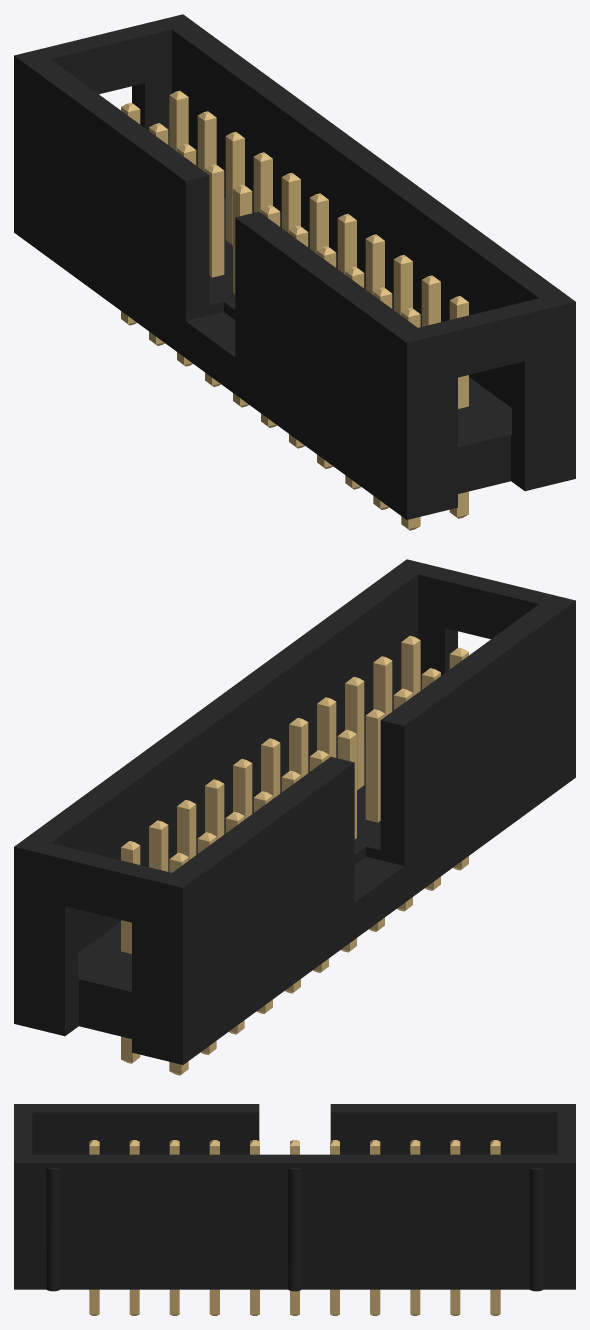
File: kc-idc-header_2x11_p2.54mm_vertical.glb
3 views of the same model, one above another, from view 1: azimuth 30°, elevation 25°; view 2: azimuth 150°, elevation 25°; view 3: azimuth 270°, elevation 25° (orthographic). The views are drawn at different scales.
Visible parts, largest first — view 1: 0_0_0_0, 0.75_0.5_0.25_0.9; view 2: 0_0_0_0, 0.75_0.5_0.25_0.9; view 3: 0_0_0_0, 0.75_0.5_0.25_0.9.
Boxes of the visible parts, x1,y1,x2,y2 form: 0_0_0_0: (14,14,575,519); 0.75_0.5_0.25_0.9: (121,90,468,530); 0_0_0_0: (14,559,575,1064); 0.75_0.5_0.25_0.9: (121,635,468,1075); 0_0_0_0: (14,1104,575,1291); 0.75_0.5_0.25_0.9: (89,1140,500,1315).
Size of the model in its own units: 0.9101 by 1.21 by 3.56.
